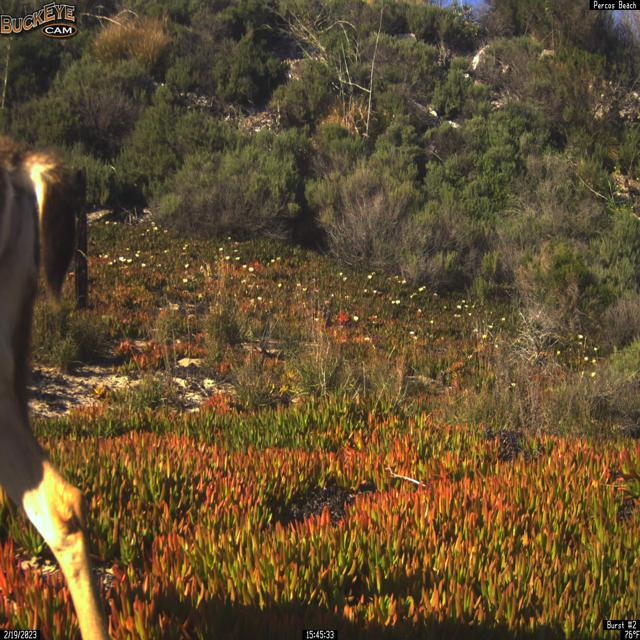deer: (0, 128, 109, 595)
